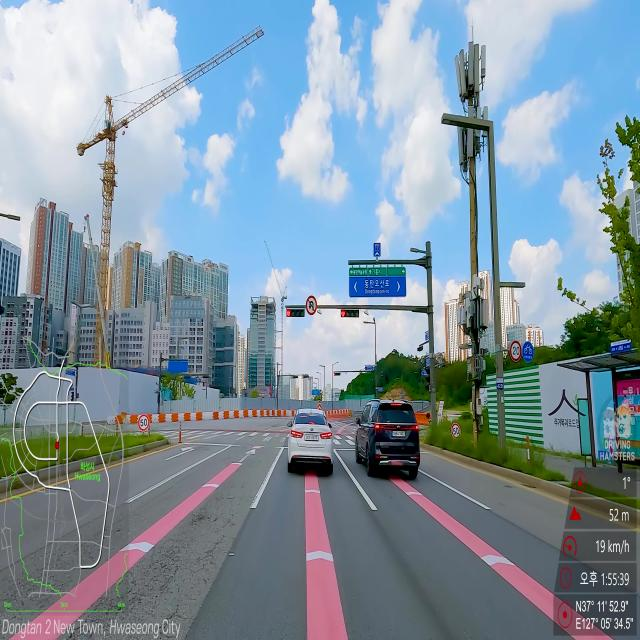Red Light: (341, 310, 345, 318), (287, 309, 290, 317)
